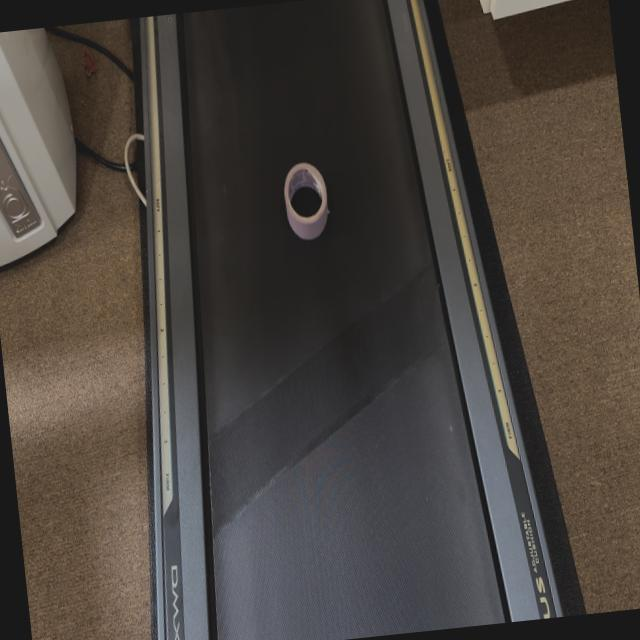Trash: (278, 160, 331, 242)
